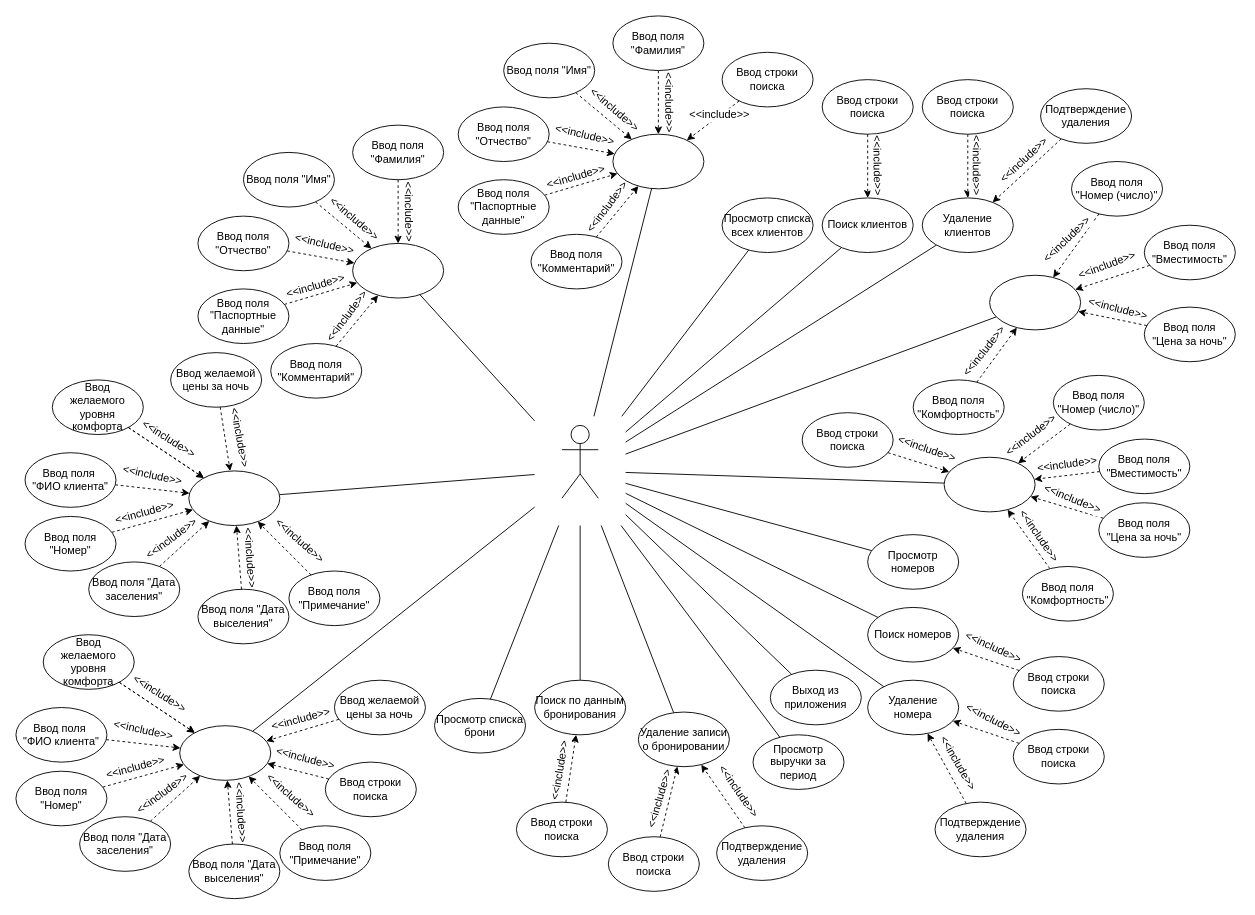
The diagram is 1255 pixels wide and 915 high, and some of its shapes have lost their labels. The shapes that lost their labels are listed below. From the top down, each one's centre as x and y in pixels, then its label:
At (x=658, y=161): "Изменение данных о клиенте".
At (x=398, y=270): "Добавление клиента".
At (x=1035, y=302): "Добавление номера".
At (x=579, y=461): "Пользователь".
At (x=234, y=498): "Заселение клиента".
At (x=989, y=484): "Изменение данных номера".
At (x=225, y=752): "Изменение данных о брони".
